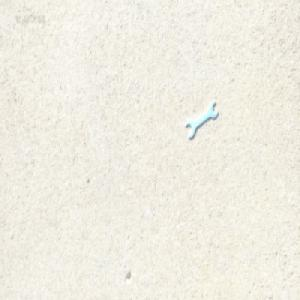Wrench: (185, 103, 216, 139)
